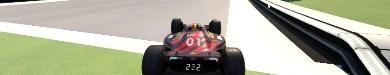Car: (141, 18, 245, 74)
obstacles-Borders: (225, 0, 389, 74)
